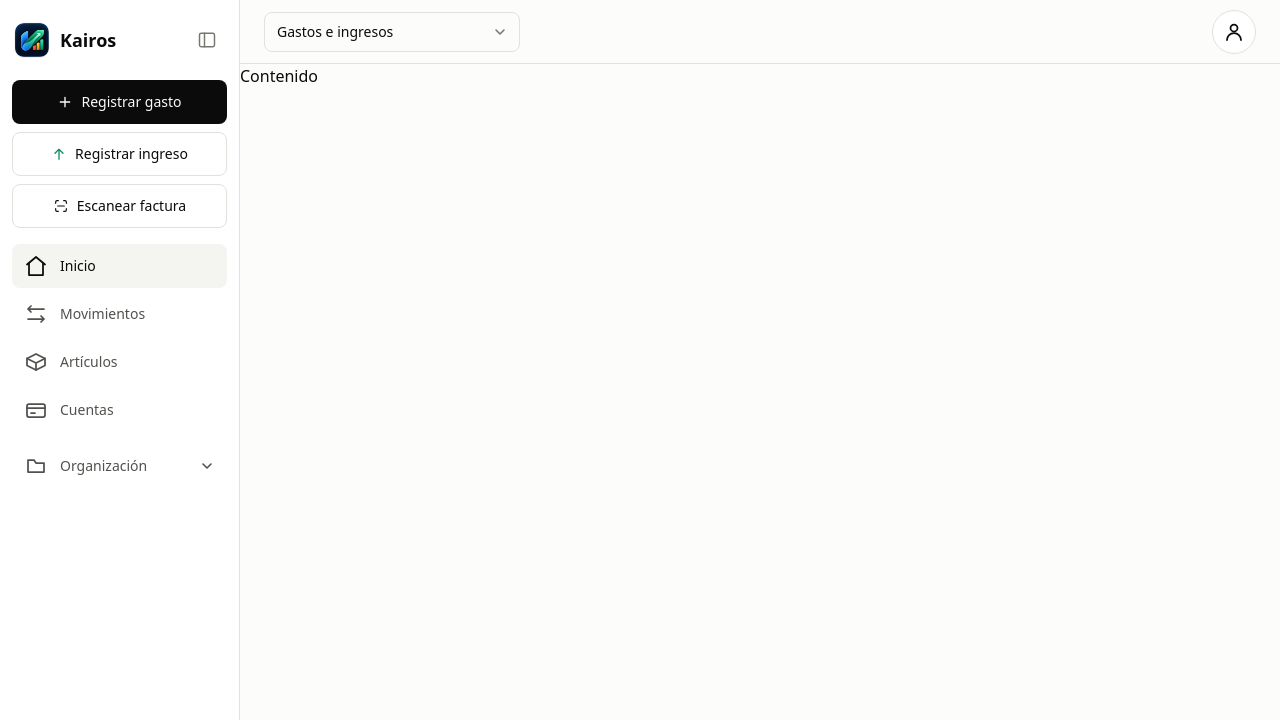
AppLayout navigation › agrupa categorías y recurrentes bajo Organización
Click the button "Organización". click: (120, 466)
box: [12,444,227,488]
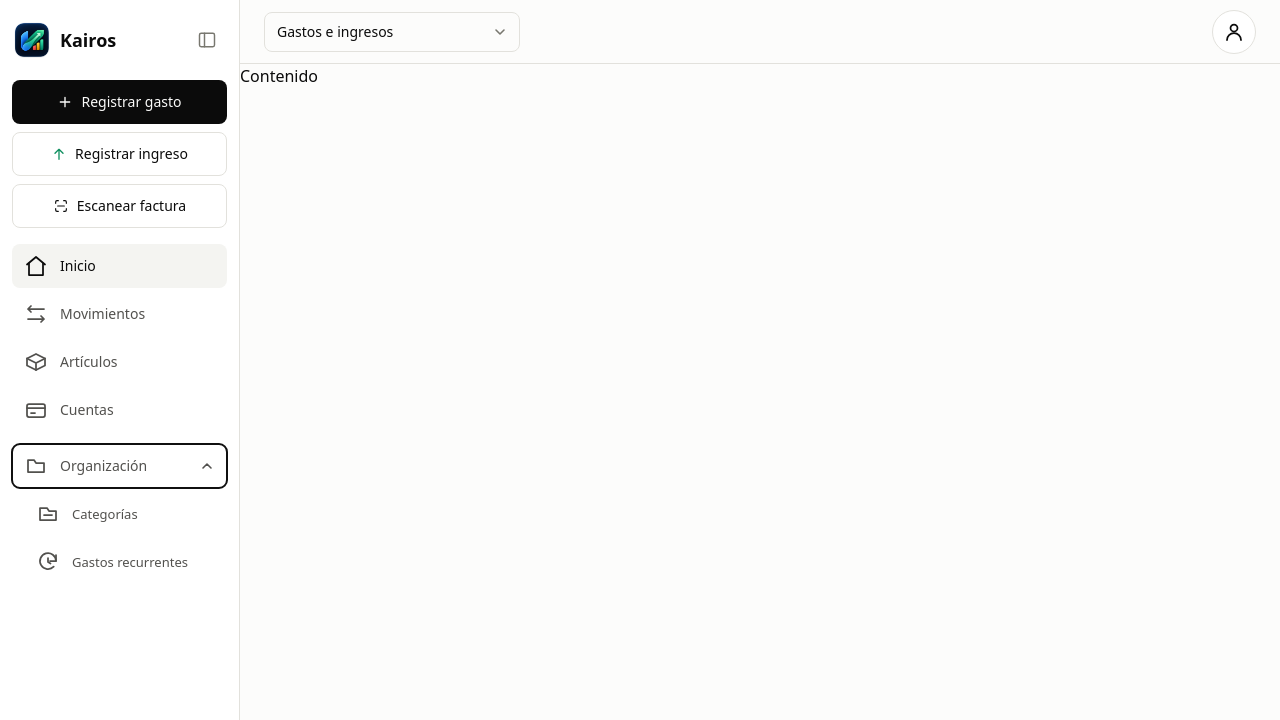
Result: the link "Categorías" is shown at [36,502,138,526]
Result: the link "Gastos recurrentes" is shown at [36,550,188,574]
